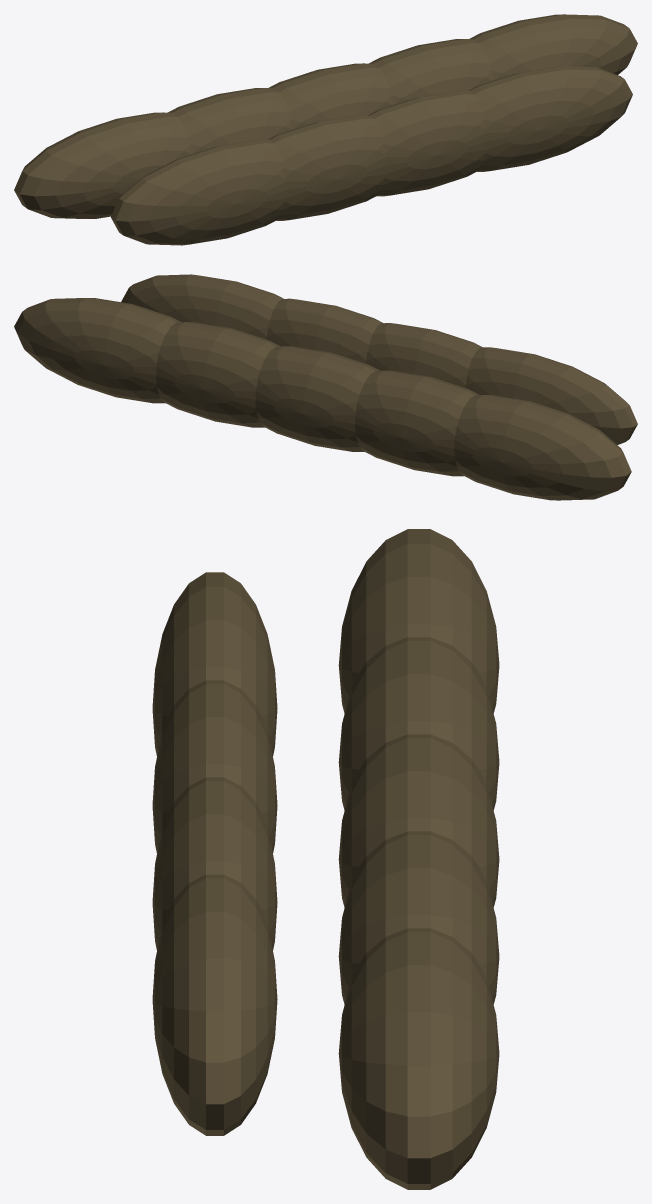
File: sandbag_wall.obj
The picture shows the model from 3 angles, top to bottom: view 1: azimuth 30°, elevation 25°; view 2: azimuth 150°, elevation 25°; view 3: azimuth 270°, elevation 25°; orthographic projection. The views are drawn at different scales.
Bounding box in the file's own units: 2.77 × 0.3811 × 0.68.
